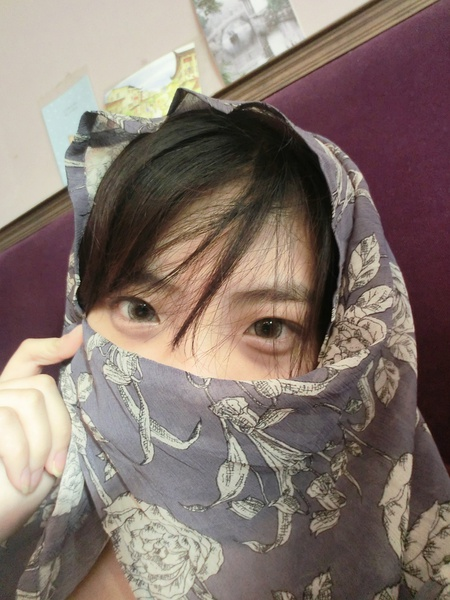face: (78, 161, 327, 600)
